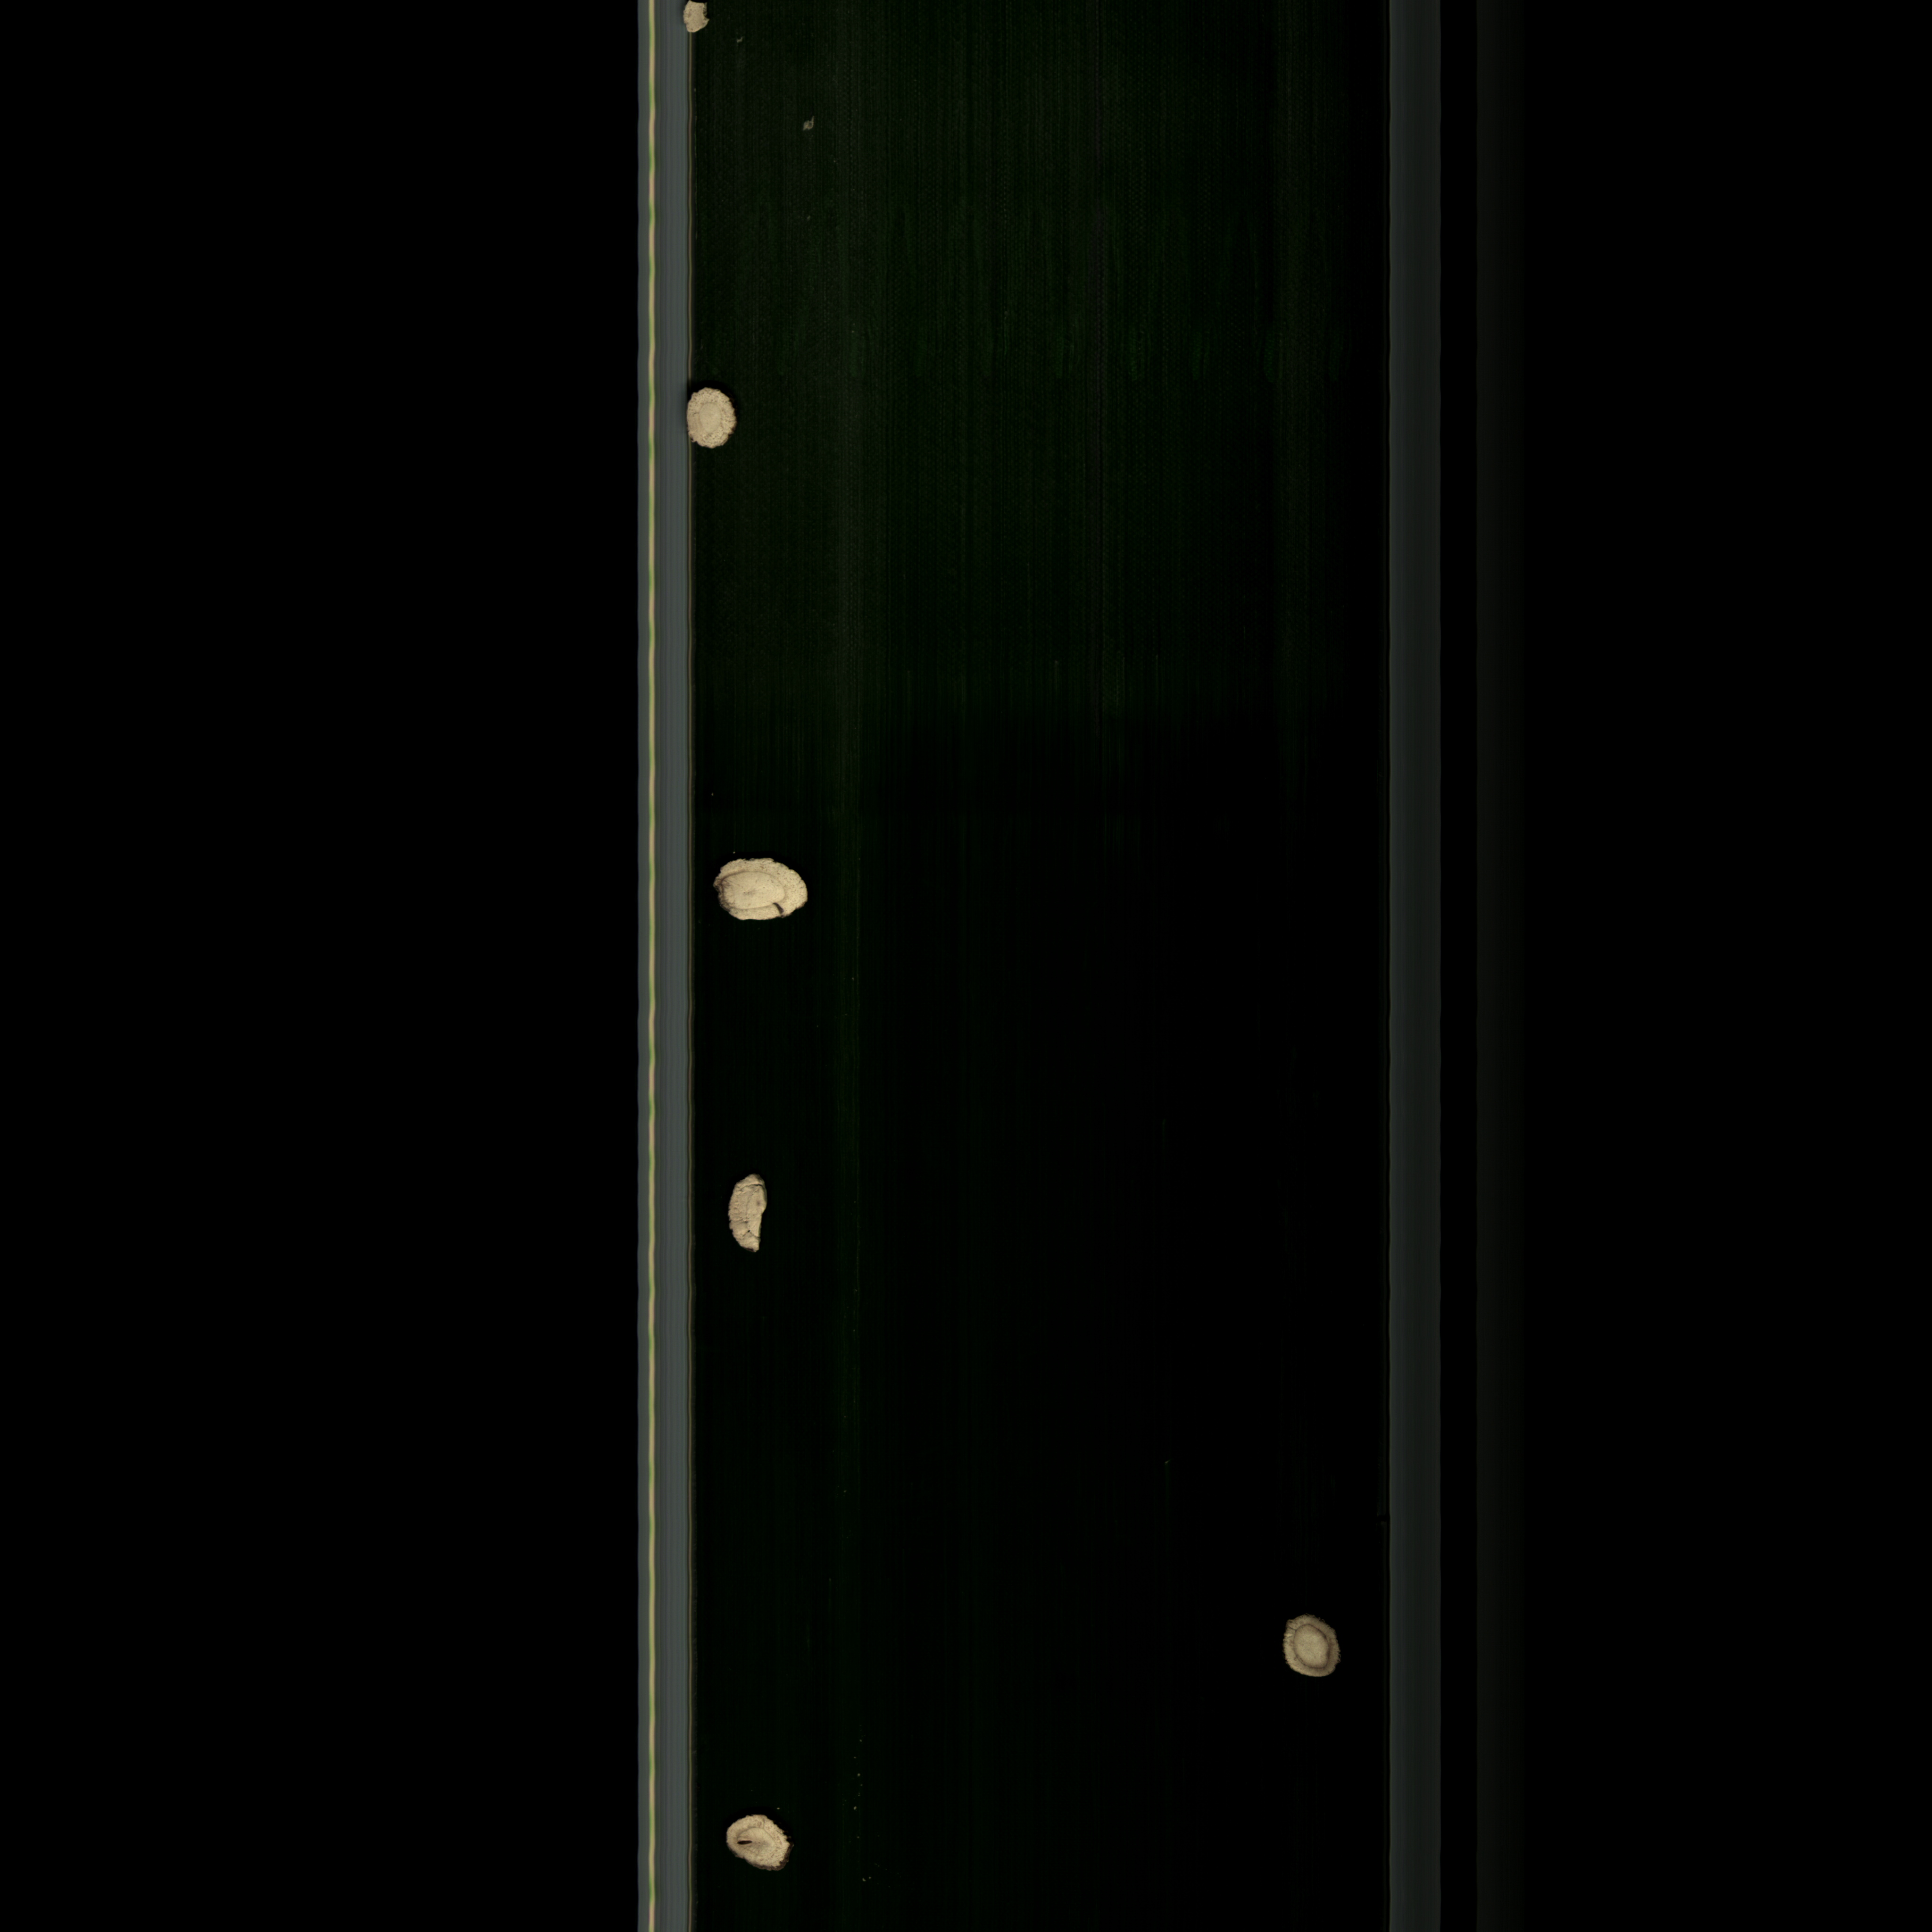debris: (717, 1166, 778, 1256), (678, 0, 722, 35)
hole: (709, 851, 832, 929), (722, 1799, 812, 1881)
moldy: (1274, 1606, 1352, 1688)
